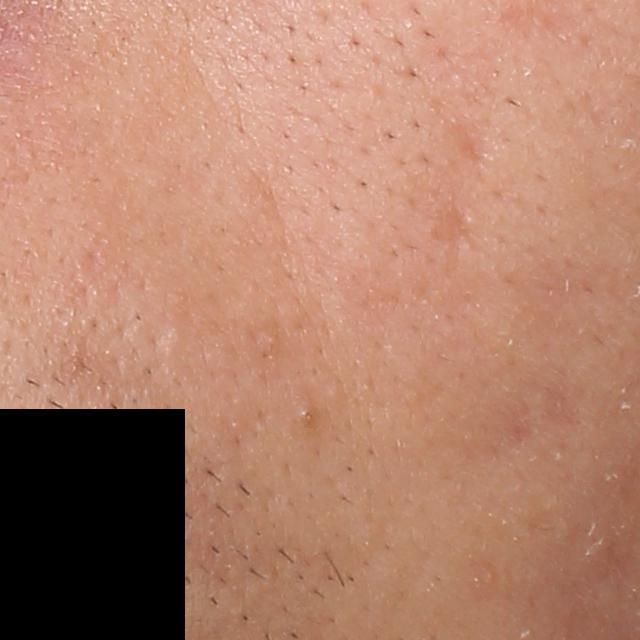atrophic_scar: (424, 188, 492, 279), (432, 100, 502, 174)
